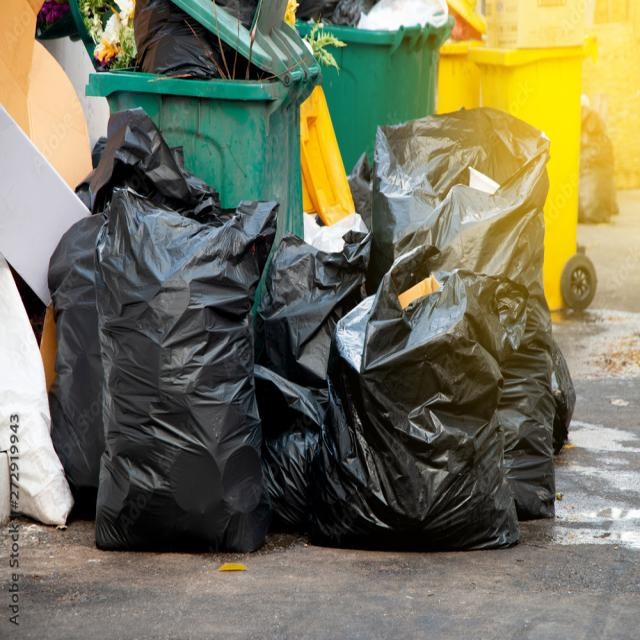trash: (57, 176, 535, 539), (83, 5, 218, 78)
